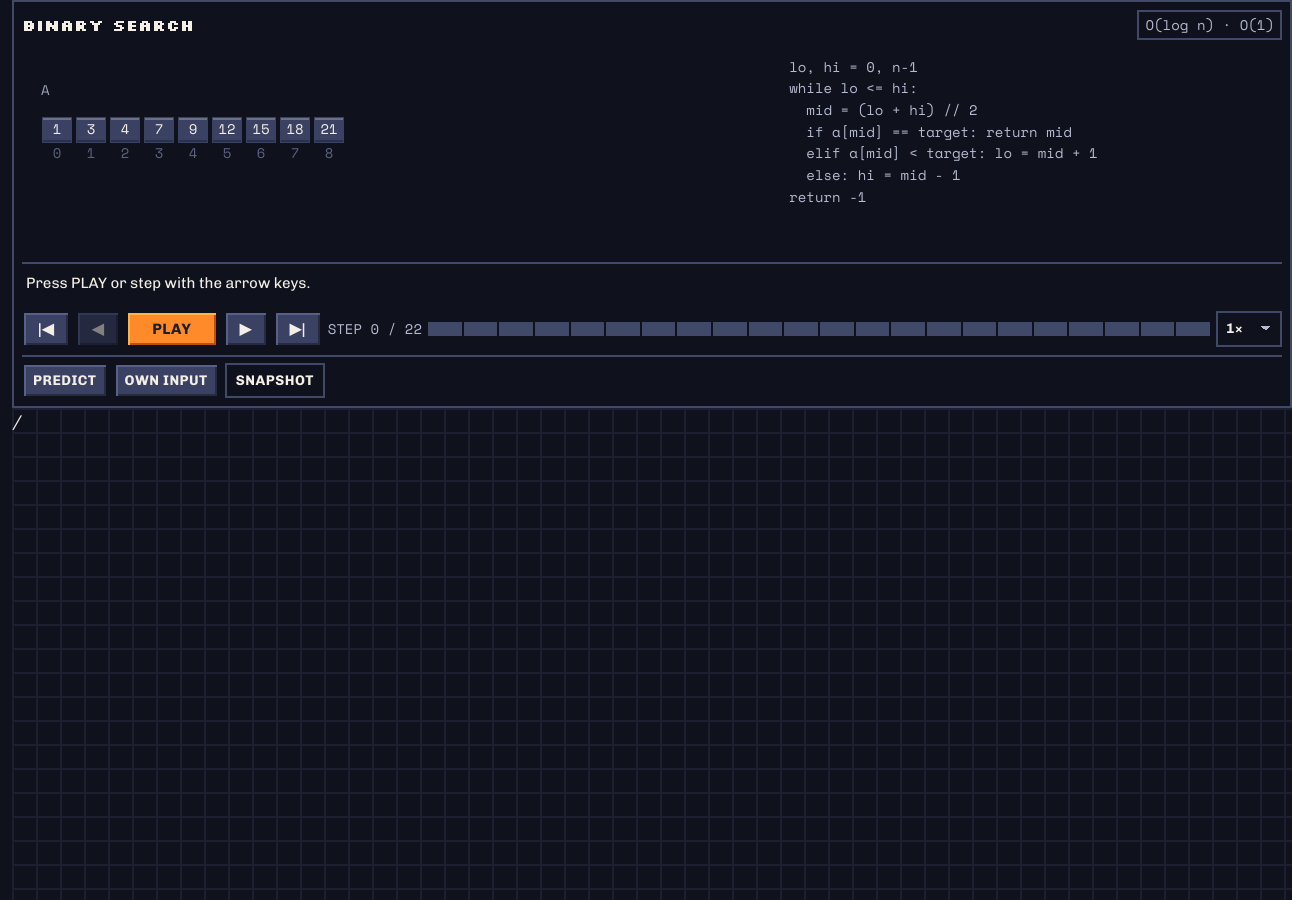
Test: AlgoPlayer (labs contract §4) › shows validation errors without re-running (S32)
The width and height of the screenshot is (1292, 900).
Expected: the element named "Player: " is shown, x1=12 y1=0 x2=1291 y2=408
Click the button "Own input": click(166, 380) x1=114 y1=362 x2=219 y2=398
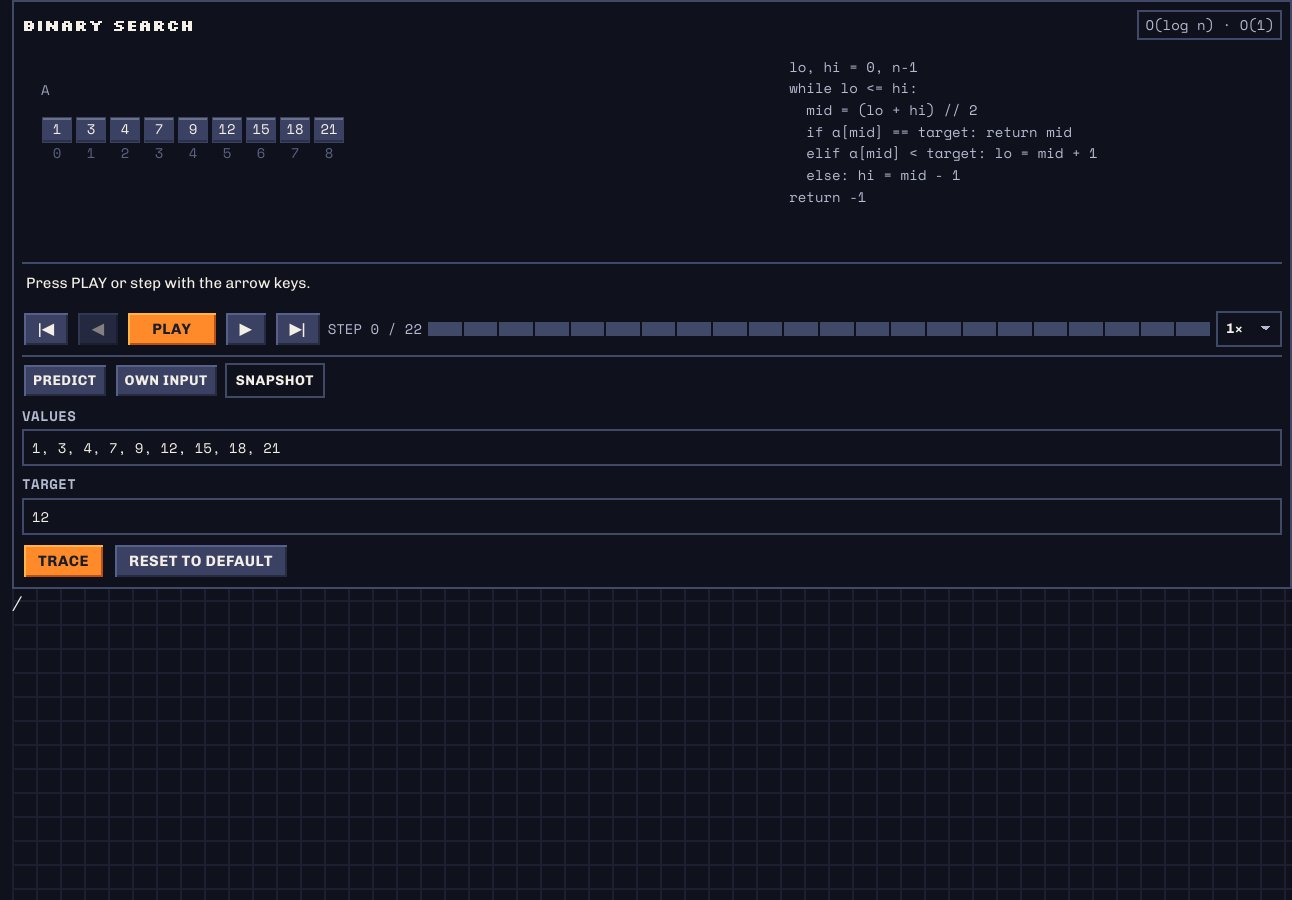
Replace the text in the field labelled "Values" with "9,7,5": (652, 448) x1=22 y1=429 x2=1282 y2=466
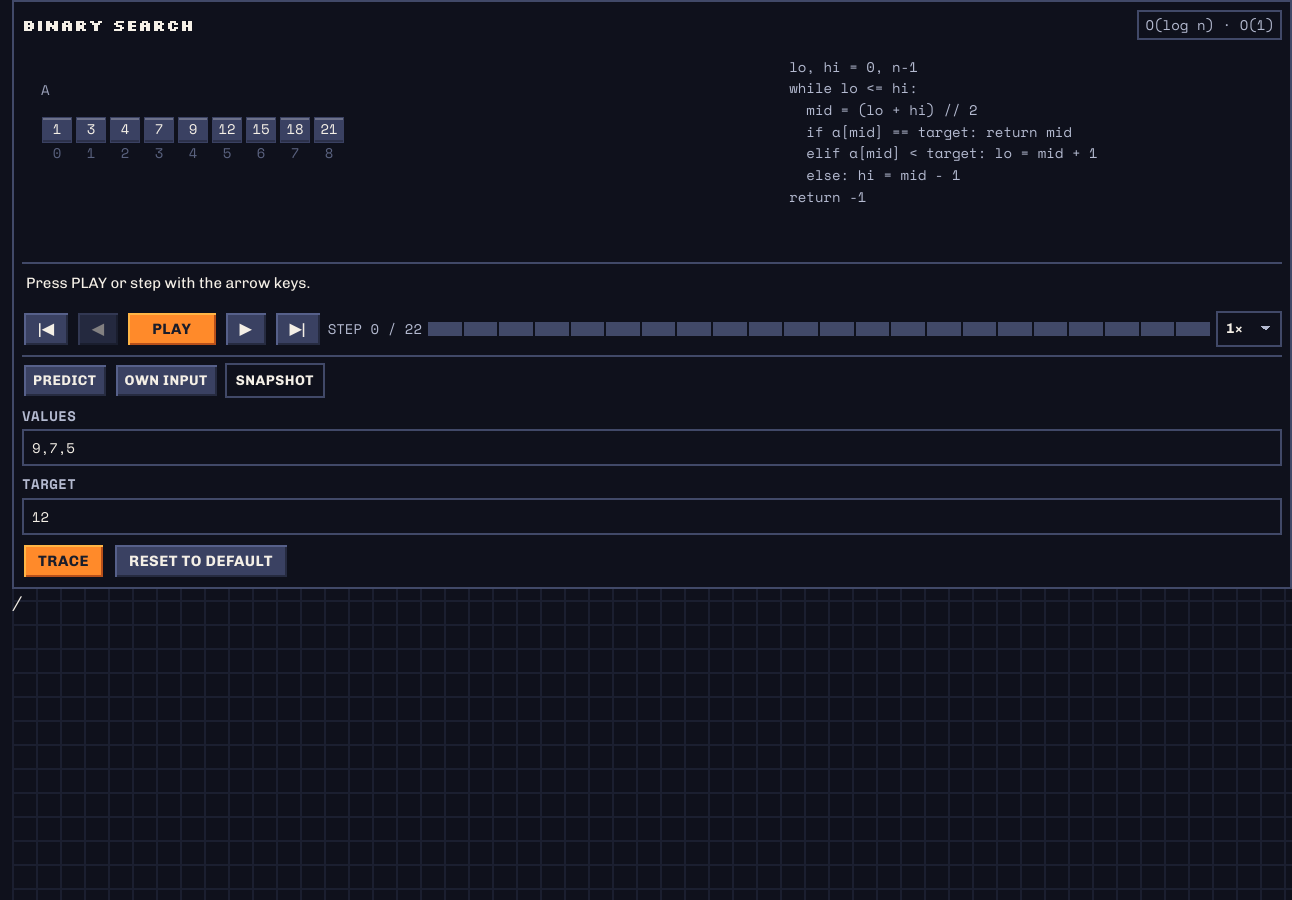
Click the button "Trace": click(64, 561) x1=22 y1=543 x2=105 y2=579
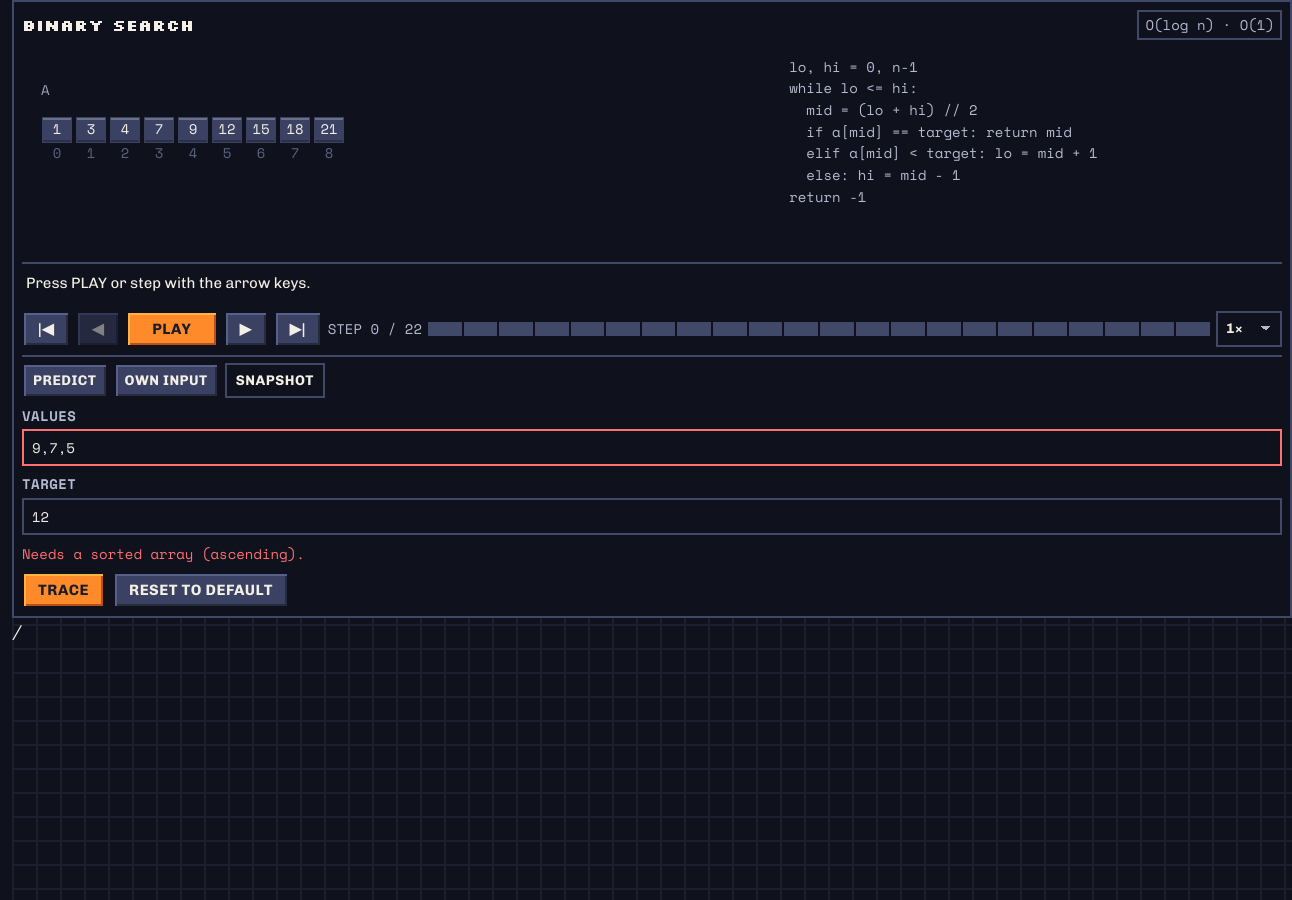
Expected: the text with test id "lab-step-counter" reads "STEP 0 / 22", x1=328 y1=318 x2=422 y2=339
Now the message reads "Needs a sorted array (ascending).", box x1=22 y1=543 x2=305 y2=564
